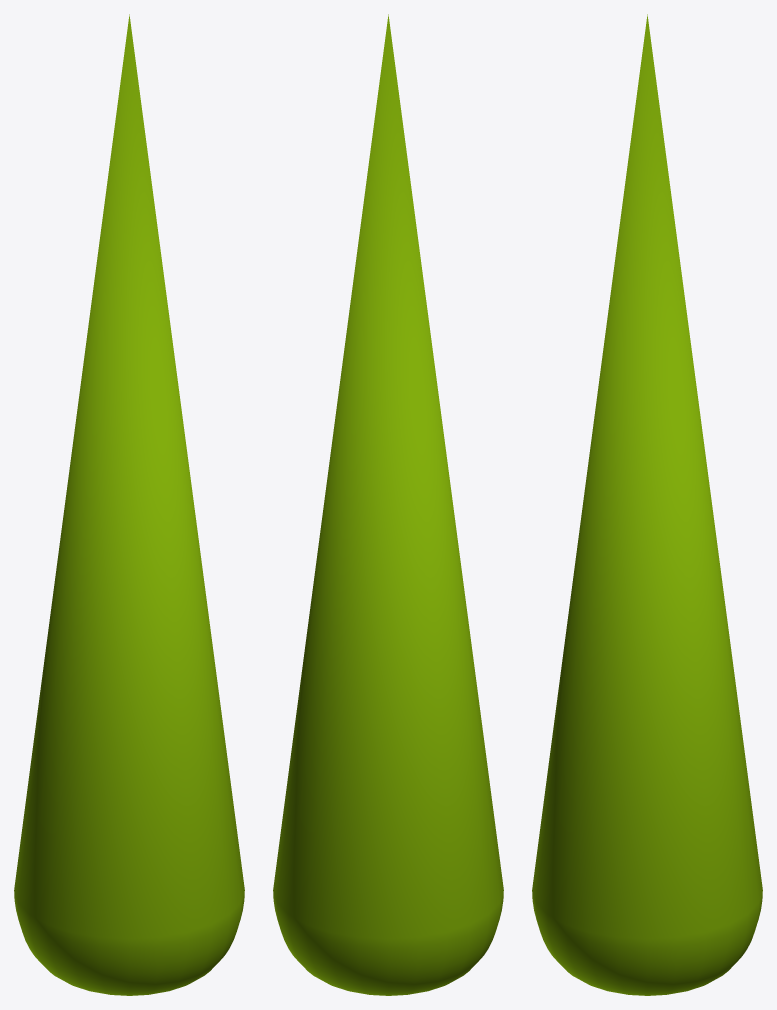
The model's file is HPKKo14m.glb.
3 renders of one model, left to right at view 1: azimuth 30°, elevation 25°; view 2: azimuth 150°, elevation 25°; view 3: azimuth 270°, elevation 25°, orthographic.
Visible parts, largest first — view 1: HPKKo14m; view 2: HPKKo14m; view 3: HPKKo14m.
Part boxes in pixels (x1=…): HPKKo14m: x1=14, y1=14, x2=244, y2=995; HPKKo14m: x1=273, y1=14, x2=503, y2=995; HPKKo14m: x1=532, y1=14, x2=762, y2=995.
Size of the model in its own units: 3 by 14 by 3.
